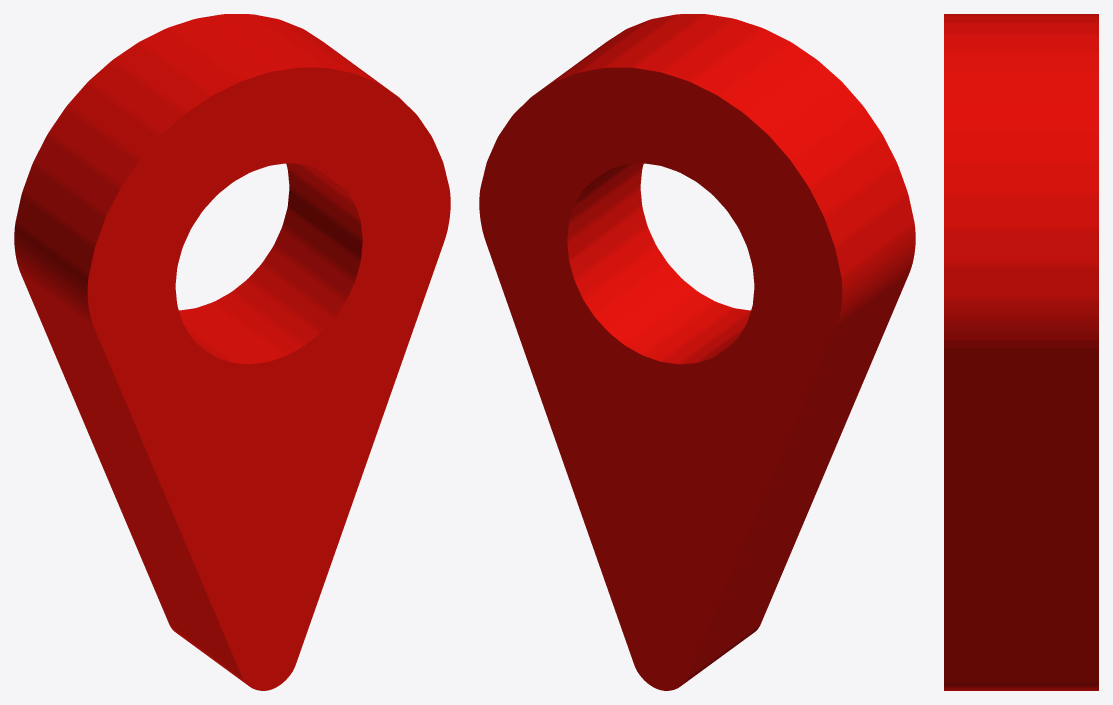
The model's file is MapMarker.glb.
3 views of the same model, side by side, from view 1: azimuth 30°, elevation 25°; view 2: azimuth 150°, elevation 25°; view 3: azimuth 270°, elevation 25° (orthographic). The views are drawn at different scales.
Parts seen in each view (by area): view 1: MapMarker; view 2: MapMarker; view 3: MapMarker.
Boxes of the visible parts, box(x1,y1,x2,y2) form: MapMarker: box(14, 14, 450, 690); MapMarker: box(479, 14, 915, 690); MapMarker: box(944, 14, 1098, 690).
Bounding box in the file's own units: 0.3885 × 0.6316 × 0.1358.
